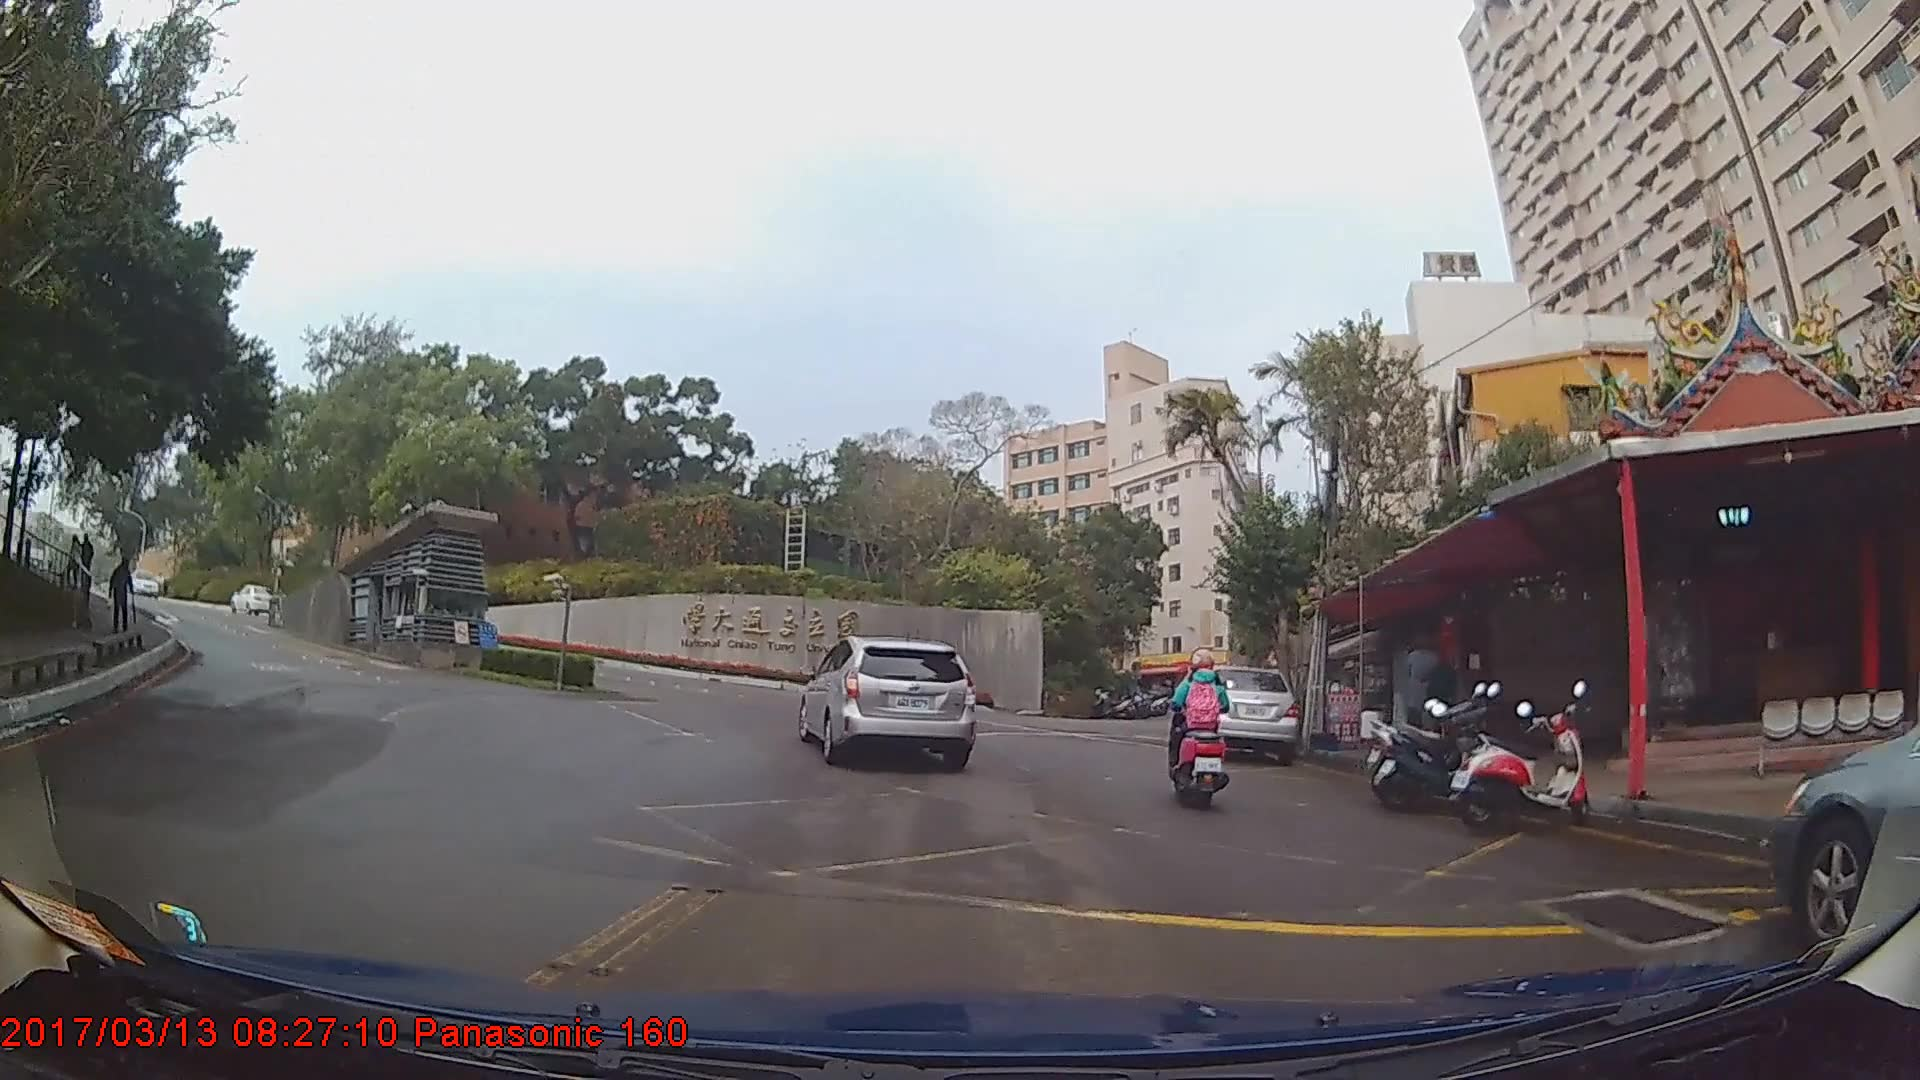pedestrian: (1422, 642, 1463, 753), (108, 559, 137, 637), (65, 537, 86, 594), (78, 536, 98, 594)
rider: (1161, 651, 1237, 815)
vehicle: (1771, 716, 1920, 952), (796, 635, 975, 771), (1178, 661, 1302, 763), (233, 586, 272, 616), (124, 569, 160, 599)
